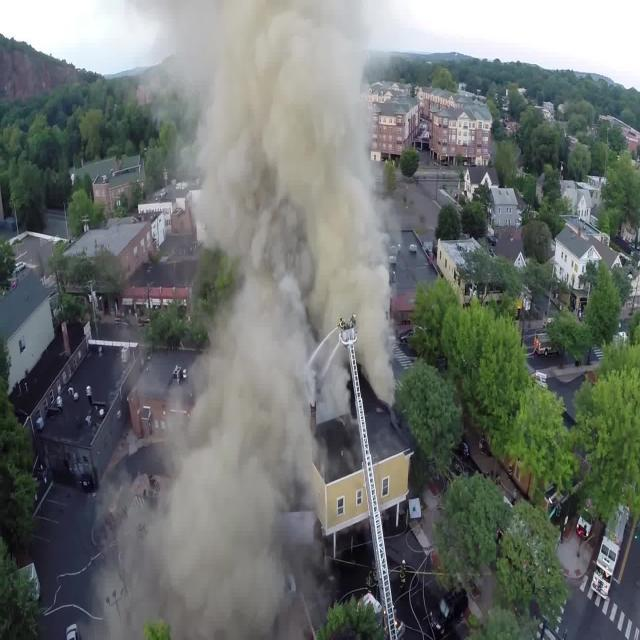Smoke: (186, 24, 377, 304), (173, 370, 299, 640)
